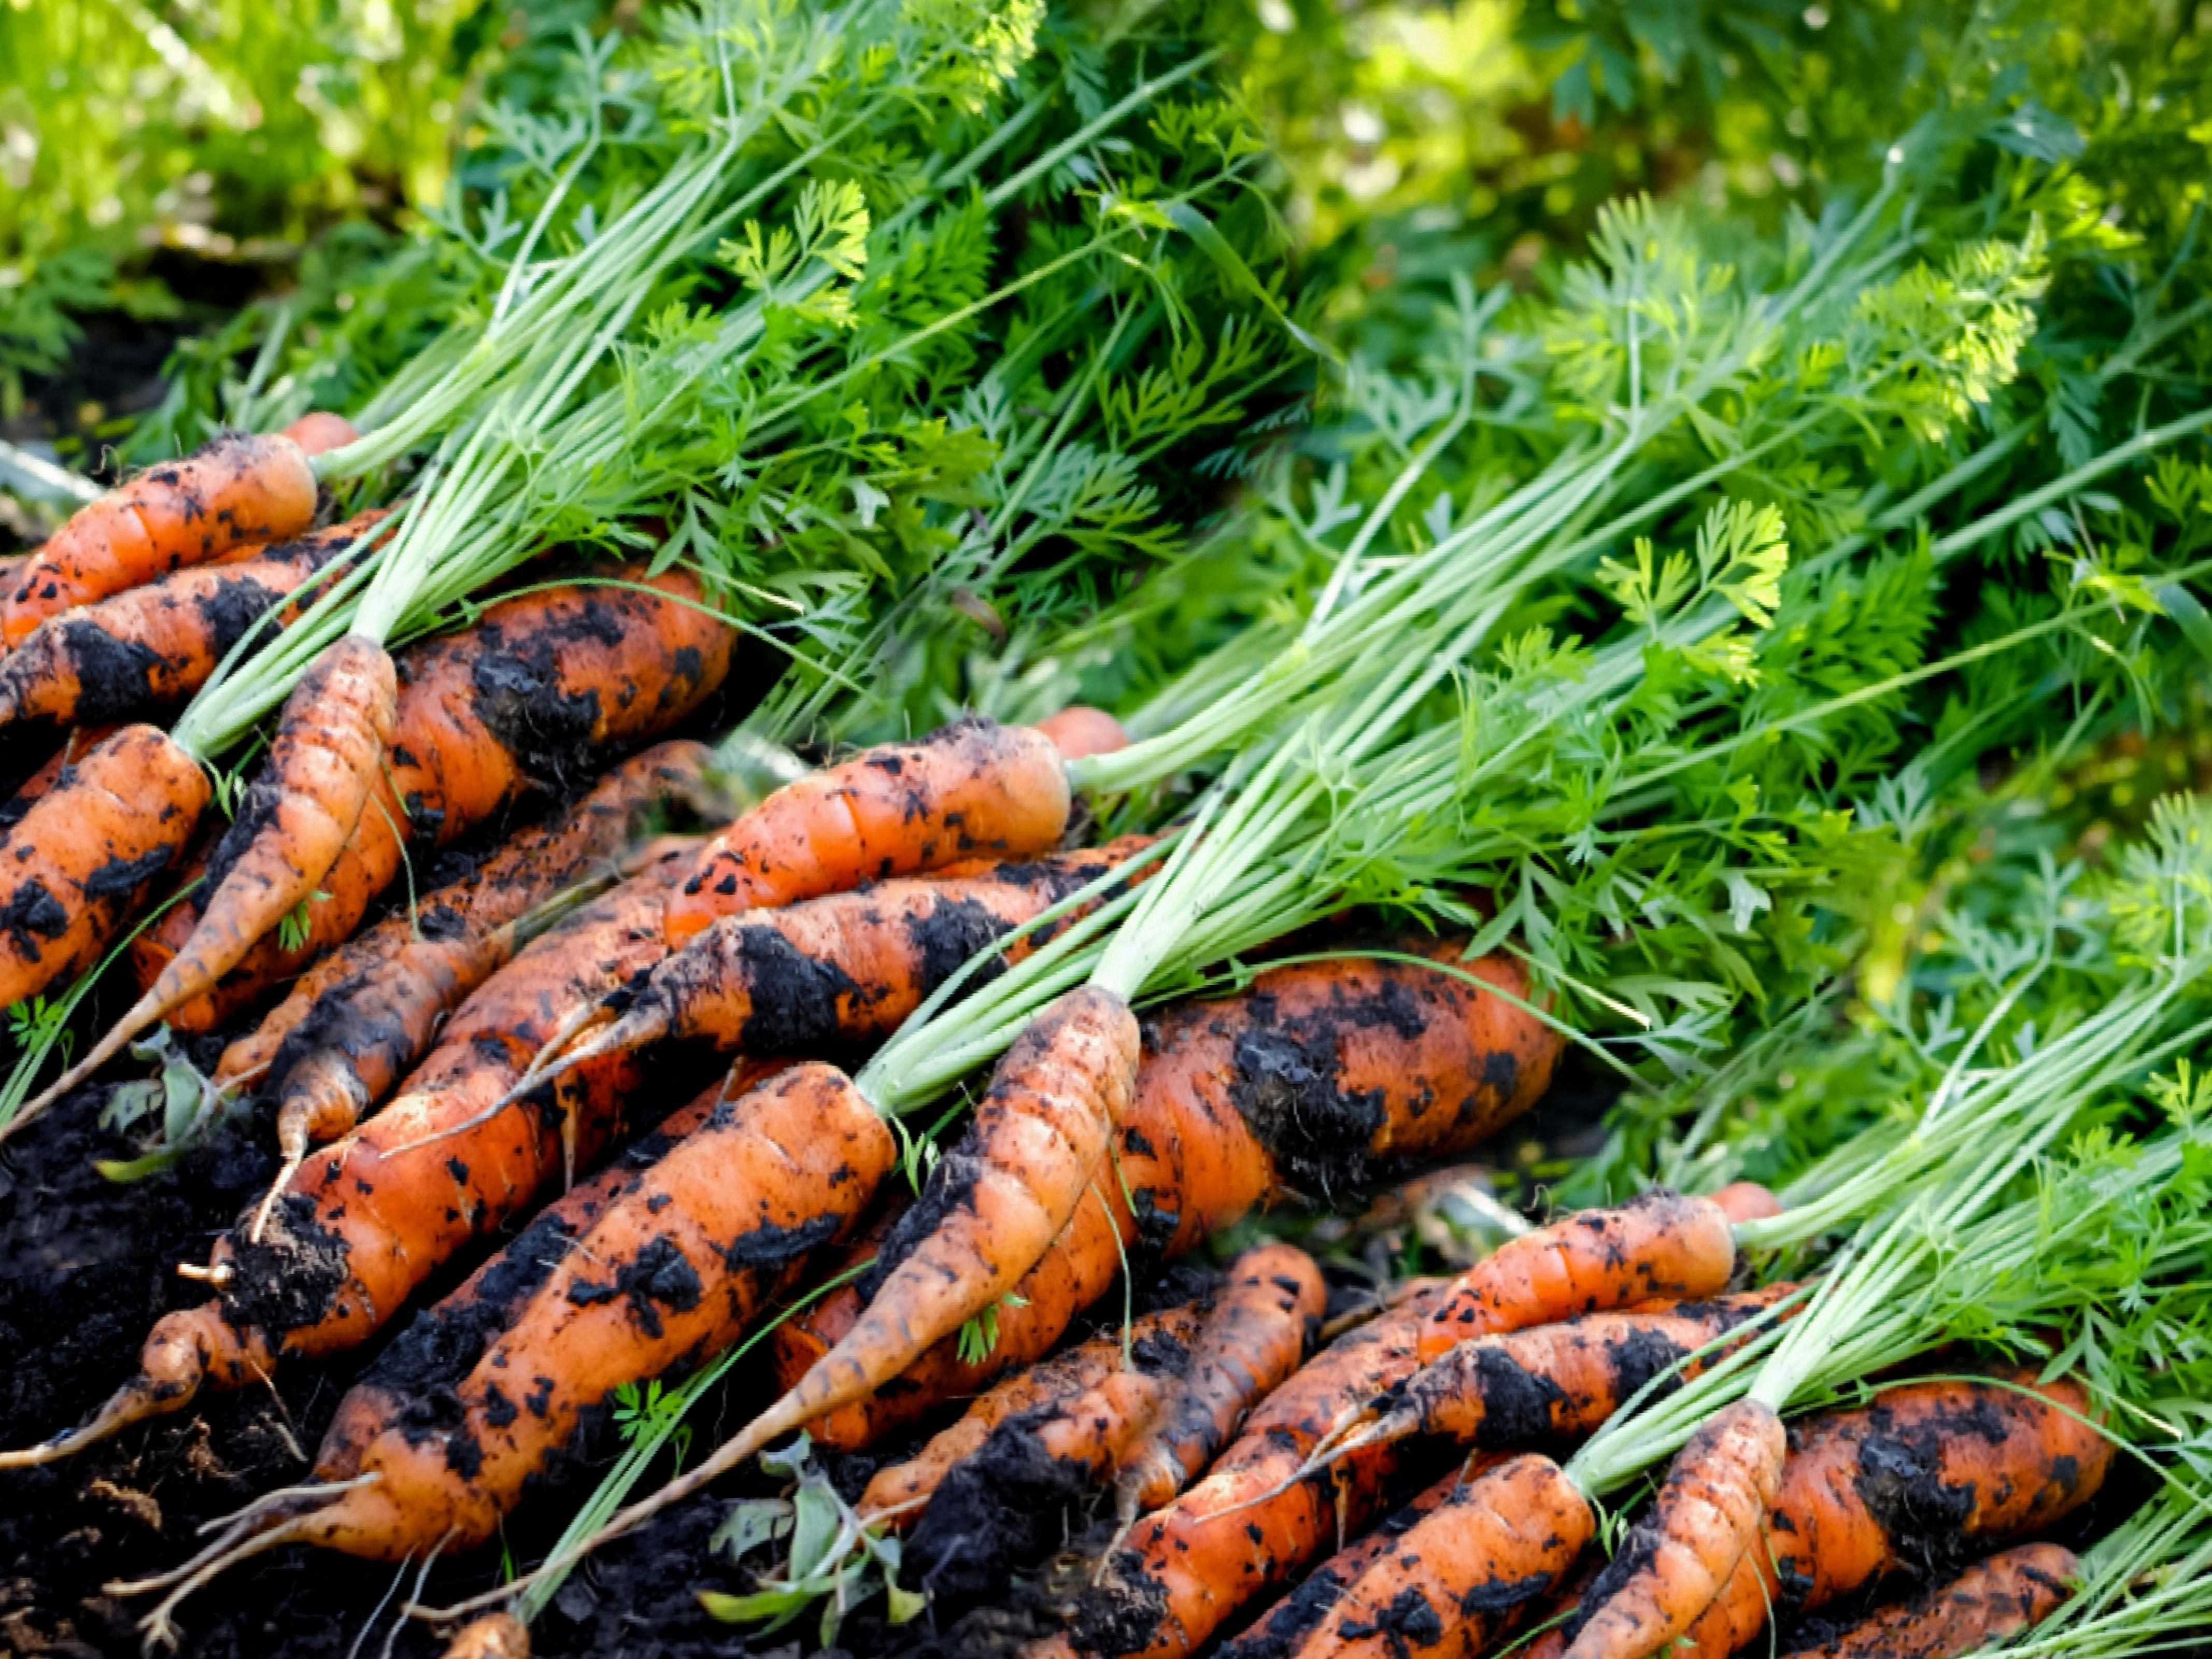carrot: (258, 544, 2130, 1649), (0, 718, 1625, 1659), (376, 957, 1151, 1521), (1177, 1140, 1773, 1659), (0, 2, 331, 373)
